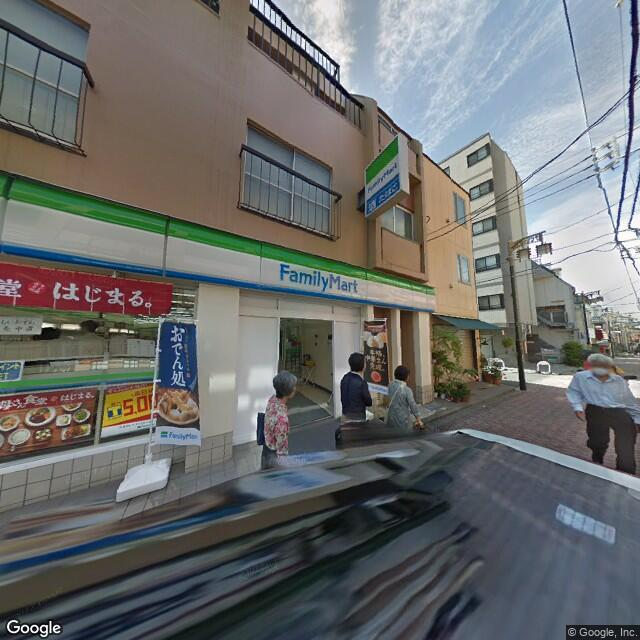family_mart: (2, 166, 436, 319), (273, 259, 362, 300), (363, 130, 405, 203)
